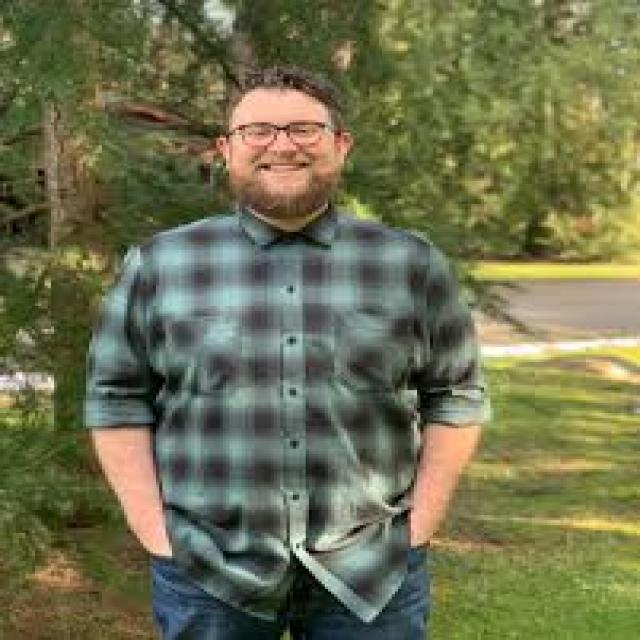plaid: (96, 209, 494, 602)
